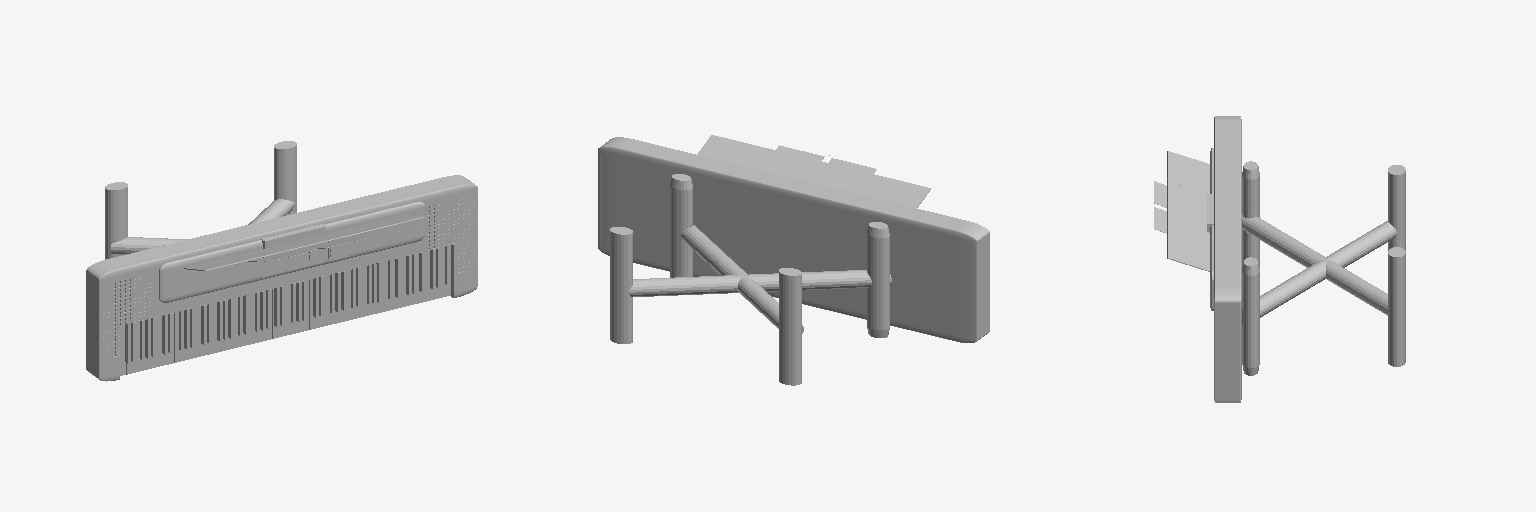
Rendered from electricpiano.obj.
3 views of the same model, side by side, from view 1: azimuth 30°, elevation 25°; view 2: azimuth 150°, elevation 25°; view 3: azimuth 270°, elevation 25° (orthographic).
Parts seen in each view (by area): view 1: obj_0; view 2: obj_0; view 3: obj_0.
Part boxes in pixels (x1,y1,x2,y2): obj_0: (86,141,477,381); obj_0: (598,135,989,385); obj_0: (1154,116,1405,402).
Bounding box in the file's own units: 123 × 41.06 × 70.71.